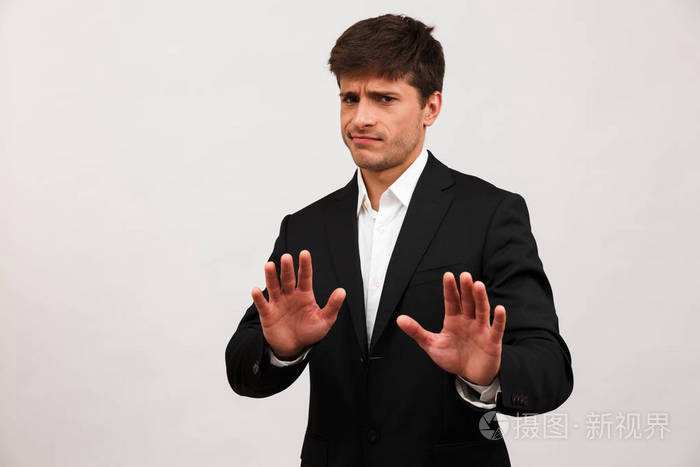no-phone: (397, 265, 507, 384), (247, 248, 348, 353)
